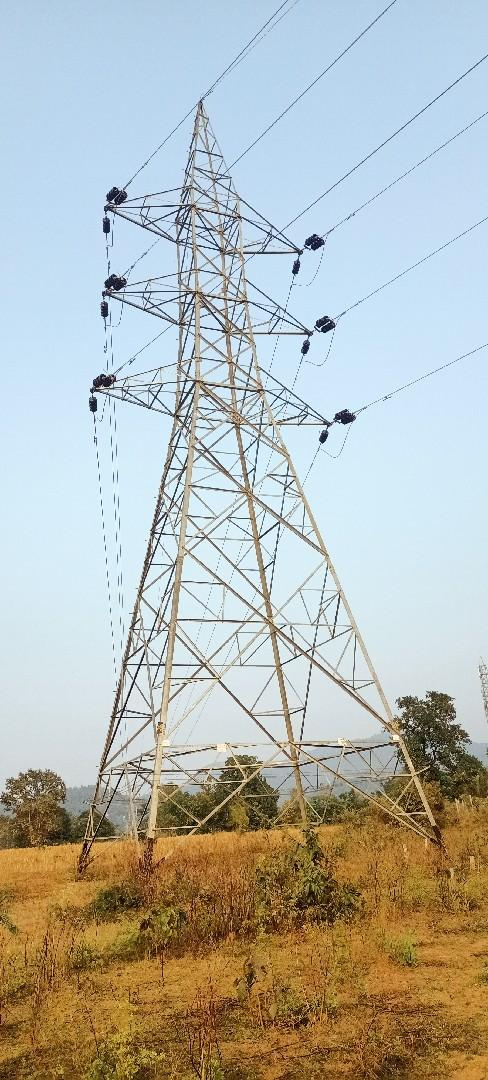GSM Antenna: (69, 85, 444, 833)
